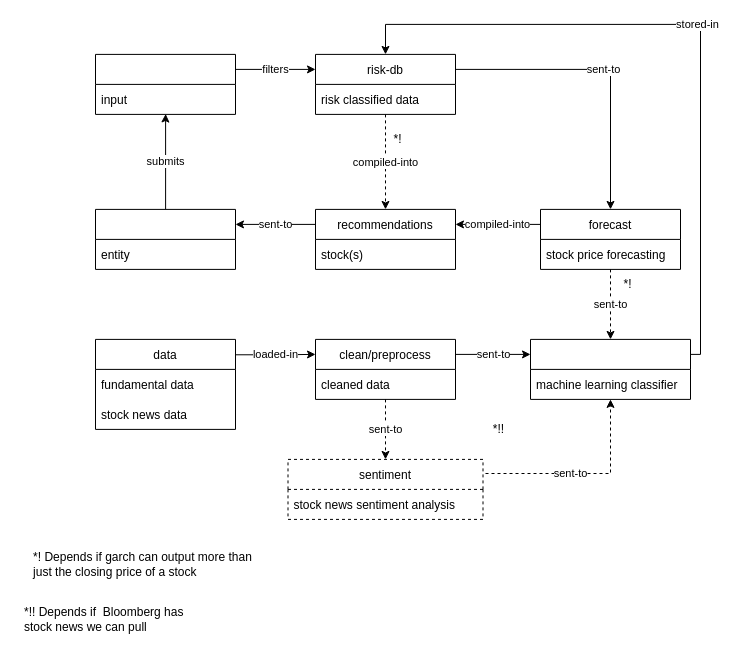
This 736x657 diagram has some shape labels left out. Here are the shapes that lost their labels. From the top down, the box of each, then its label:
(94, 53, 236, 114): criteria
(94, 208, 236, 269): user
(530, 338, 690, 399): classify
